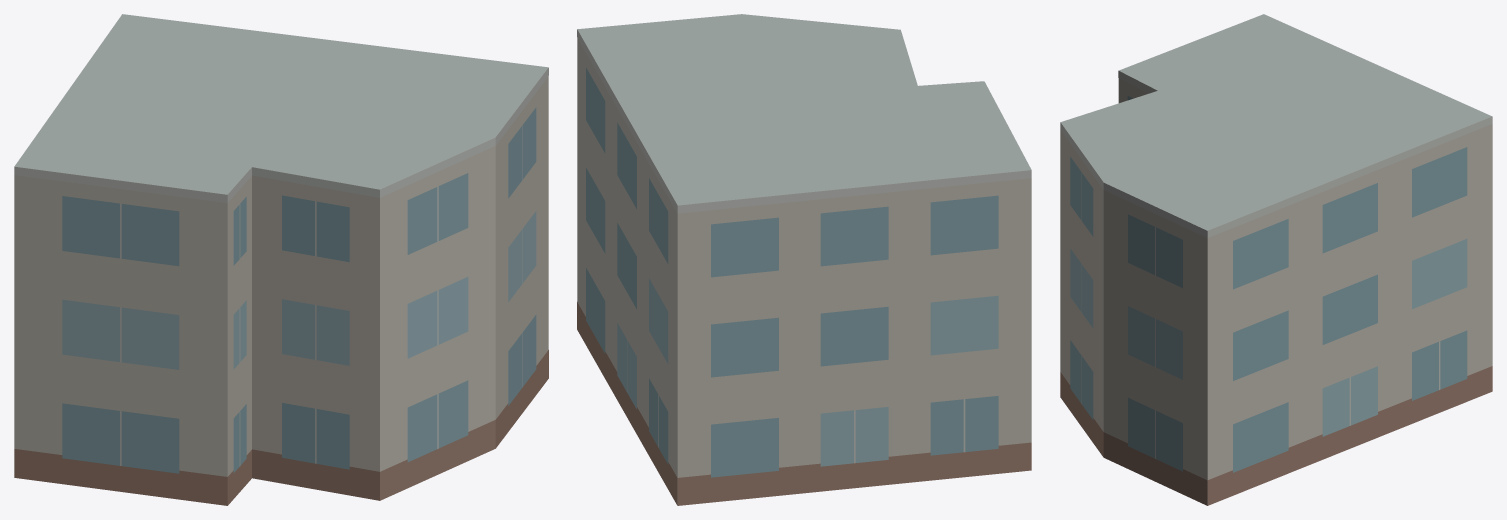
The model's file is survey-upis-32999437.glb.
The picture shows the model from 3 angles, left to right: view 1: azimuth 30°, elevation 25°; view 2: azimuth 150°, elevation 25°; view 3: azimuth 270°, elevation 25°; orthographic projection. The views are drawn at different scales.
Visible parts, largest first — view 1: survey-upis-32999437.tmp; view 2: survey-upis-32999437.tmp; view 3: survey-upis-32999437.tmp.
Part boxes in pixels (<box>): survey-upis-32999437.tmp: <box>14,14,548,505</box>; survey-upis-32999437.tmp: <box>577,14,1031,505</box>; survey-upis-32999437.tmp: <box>1060,14,1492,505</box>.
Size of the model in its own units: 15.48 by 9.15 by 13.04.
